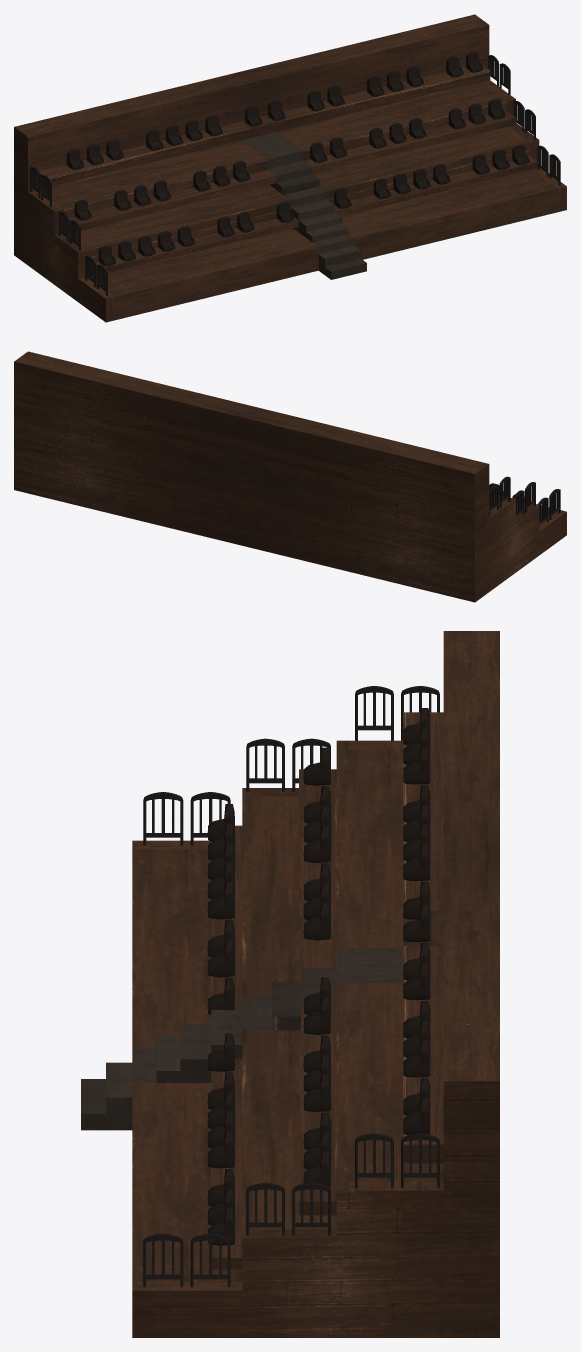
The model's file is GradasVersion2.fbx.
3 renders of one model, top to bottom at view 1: azimuth 30°, elevation 25°; view 2: azimuth 150°, elevation 25°; view 3: azimuth 270°, elevation 25°, orthographic. The views are drawn at different scales.
Parts seen in each view (by area): view 1: gradasGimnasio.002, gradasGimnasio.001, gradasGimnasio.003; view 2: gradasGimnasio.002, gradasGimnasio.003, gradasGimnasio.001; view 3: gradasGimnasio.002, gradasGimnasio.001, gradasGimnasio.003.
Boxes of the visible parts, x1=… form: gradasGimnasio.002: x1=14, y1=14, x2=566, y2=322; gradasGimnasio.001: x1=29, y1=51, x2=560, y2=295; gradasGimnasio.003: x1=241, y1=132, x2=366, y2=279; gradasGimnasio.002: x1=14, y1=351, x2=566, y2=602; gradasGimnasio.003: x1=226, y1=450, x2=262, y2=550; gradasGimnasio.001: x1=489, y1=476, x2=560, y2=528; gradasGimnasio.002: x1=132, y1=631, x2=499, y2=1337; gradasGimnasio.001: x1=143, y1=686, x2=439, y2=1287; gradasGimnasio.003: x1=81, y1=948, x2=402, y2=1130.
Size of the model in its own units: 4083 by 1086 by 1606.
2 materials, 2 textured.
